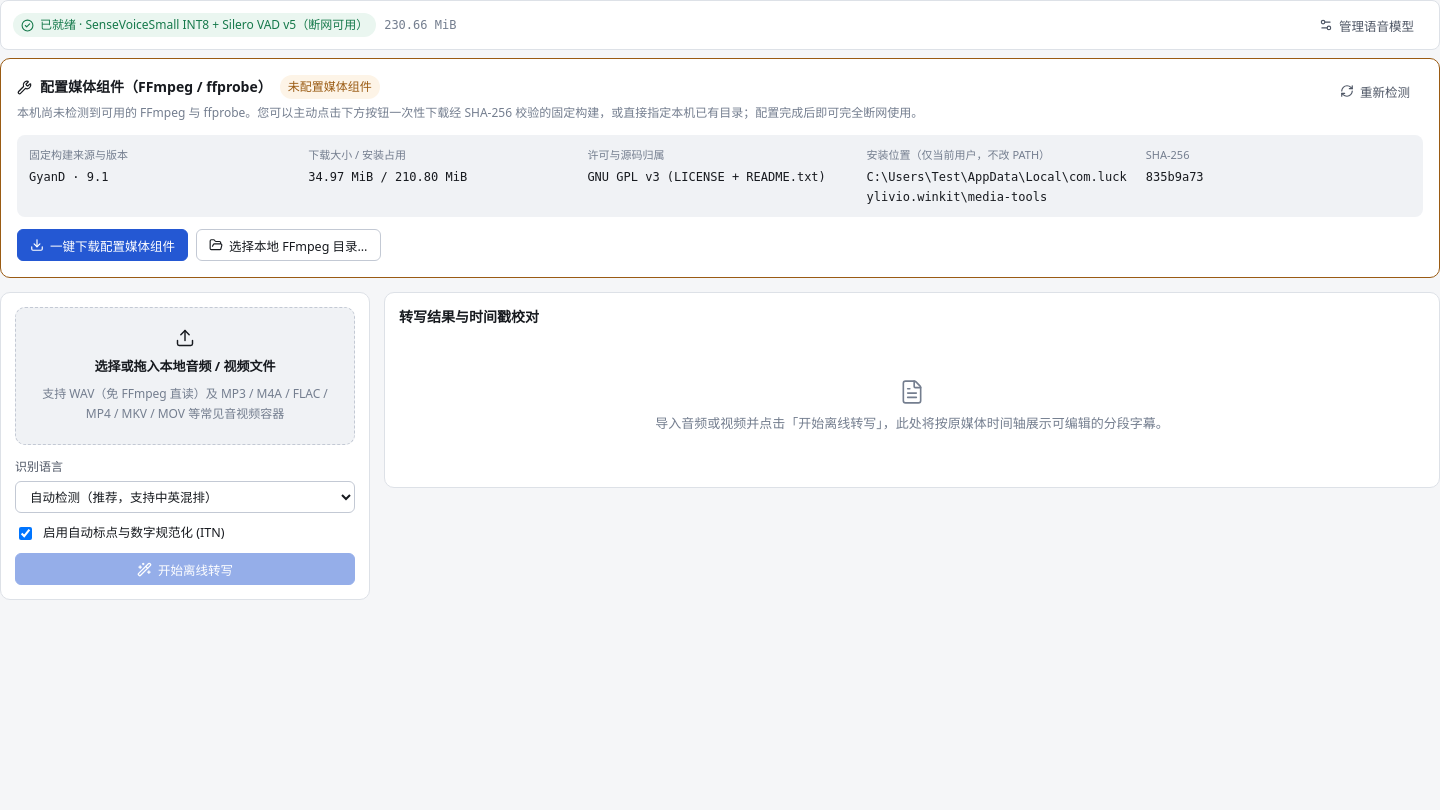
Test: TranscribeMediaWorkspace (T01) › ignores stale inspect results when Clear is clicked mid-load
Expected: the element with test id "asr-model-compact-bar" is shown, [0,0,1439,50]
Click the button with test id "t01-dropzone" at (185, 376), box [15,307,355,445]
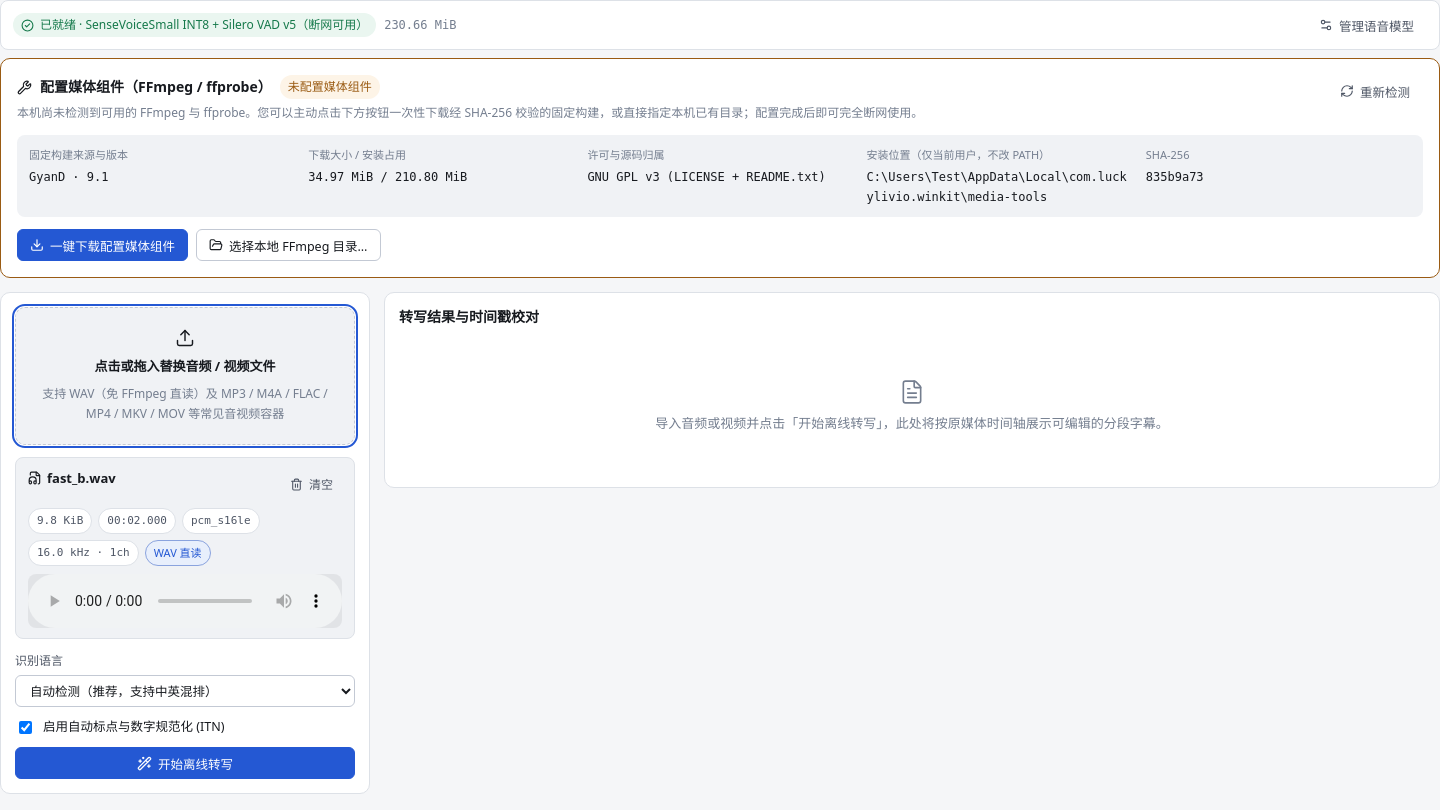
Expected: the element with test id "t01-source-meta" does not show "slow.wav", [15,457,355,639]
Expected: the element with test id "t01-source-meta" shows "fast_b.wav", [47,469,116,487]
